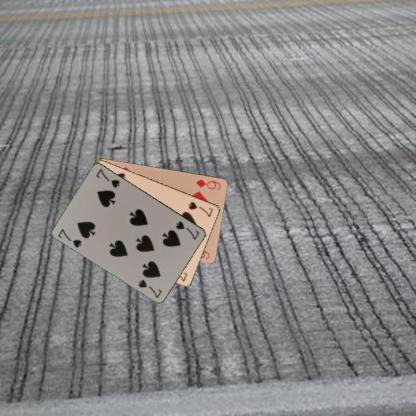6d: (194, 176, 223, 191)
7s: (56, 226, 83, 249), (174, 218, 200, 241), (186, 199, 214, 218)
